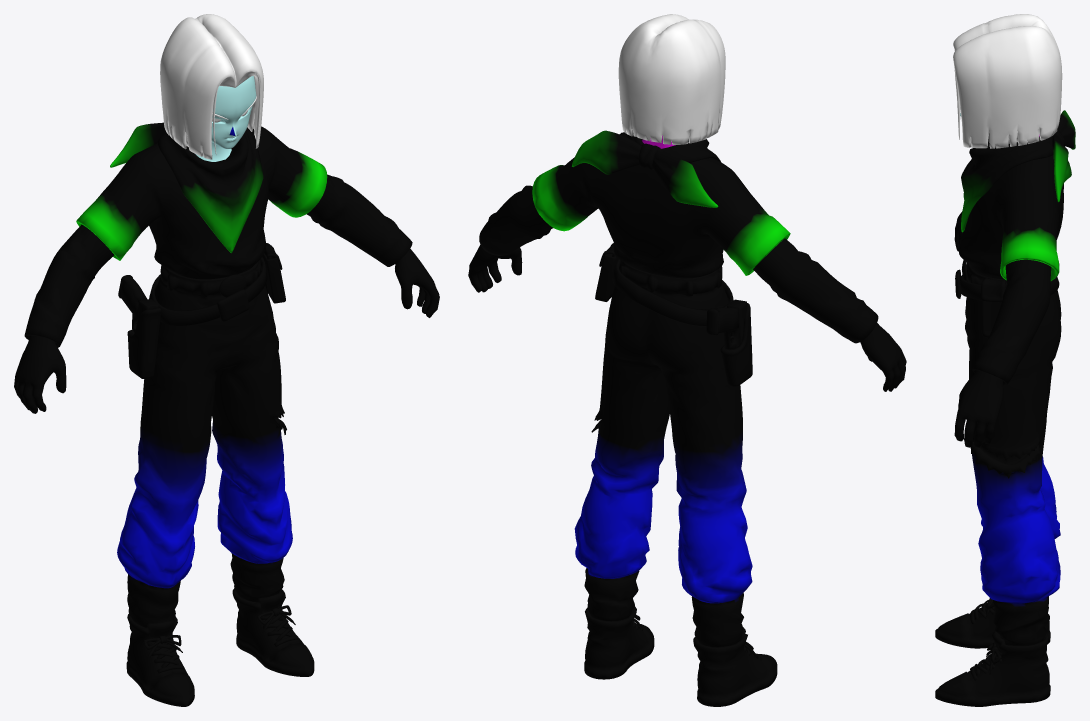
Rendered from Android 17.fbx.
3 renders of one model, left to right at view 1: azimuth 30°, elevation 25°; view 2: azimuth 150°, elevation 25°; view 3: azimuth 270°, elevation 25°, orthographic. The views are drawn at different scales.
Parts seen in each view (by area): view 1: M_MED_CashewRoll_LOD0.mo; view 2: M_MED_CashewRoll_LOD0.mo; view 3: M_MED_CashewRoll_LOD0.mo.
Part boxes in pixels (box(x1,y1,x2,y2)): M_MED_CashewRoll_LOD0.mo: box(14, 14, 439, 706); M_MED_CashewRoll_LOD0.mo: box(468, 14, 906, 706); M_MED_CashewRoll_LOD0.mo: box(935, 14, 1075, 706).
Bounding box in the file's own units: 119 × 176 × 34.67.
